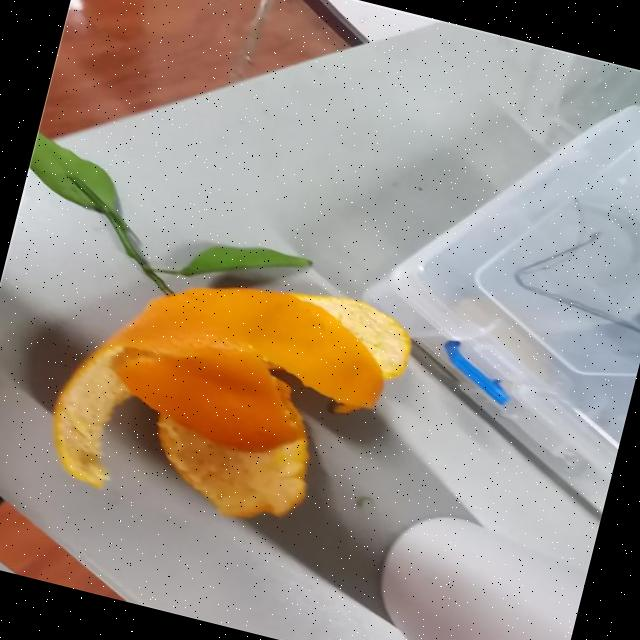orange-peel: (36, 232, 420, 554)
